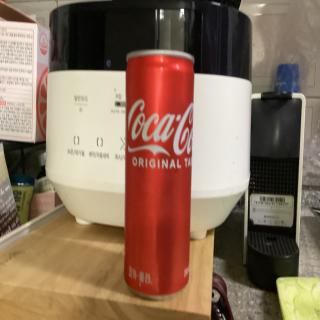cocacola: (125, 46, 196, 298)
